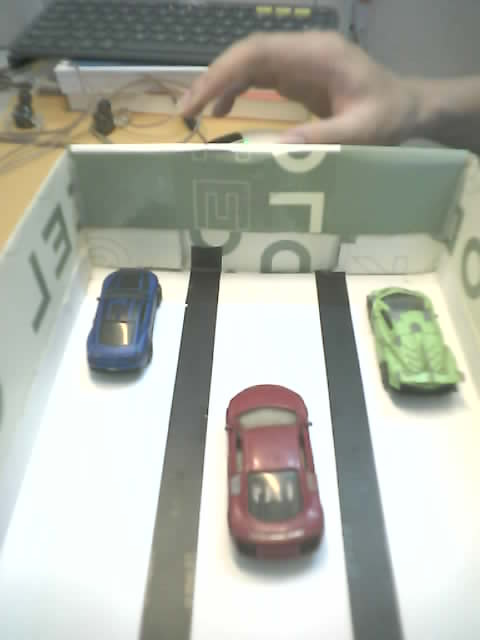vehicle: (225, 384, 325, 580), (366, 288, 464, 414), (86, 268, 162, 387)
